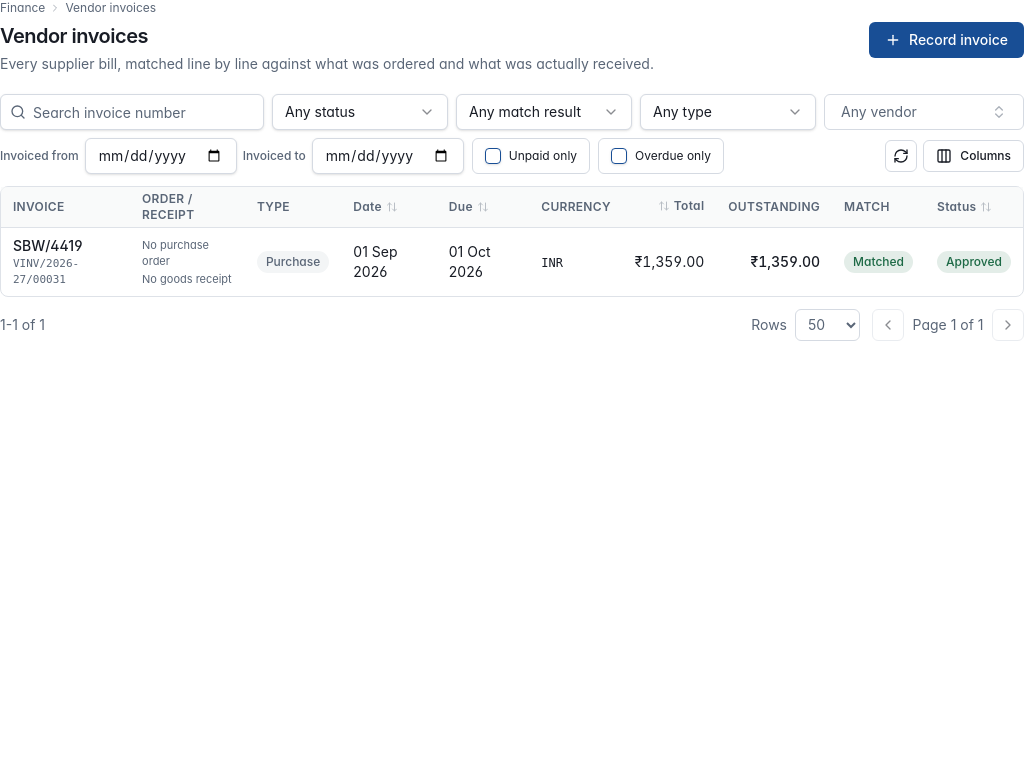
Test: a command is offered only in the status its state machine permits › offers nothing once the bill has reached the ledger
Click the button "SBW/4419": click(48, 246) [13,236,82,256]
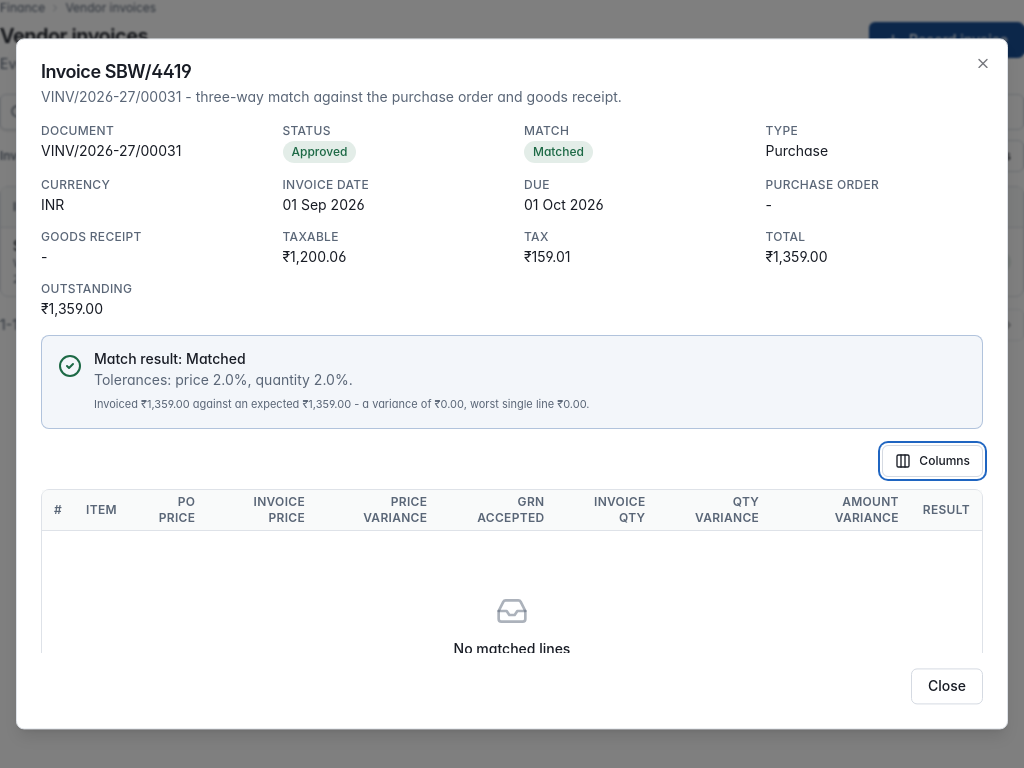
Check: the text "VINV/2026-27/00031" is shown, box [41,142,181,159]
